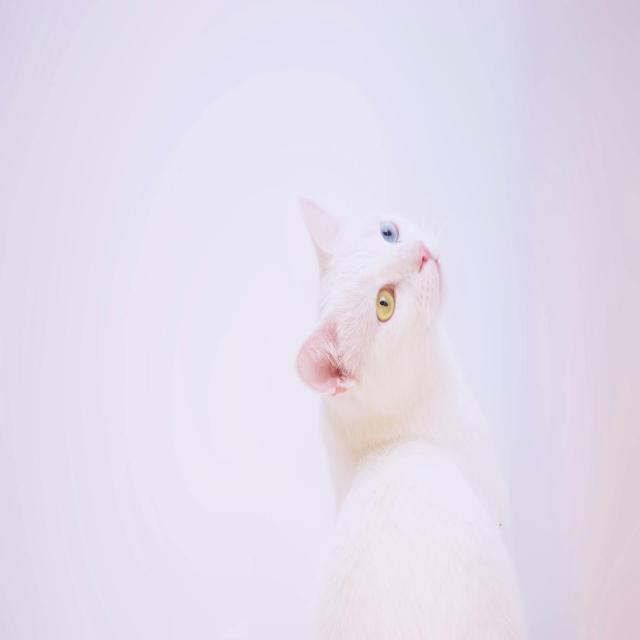Cat: (294, 194, 525, 638)
